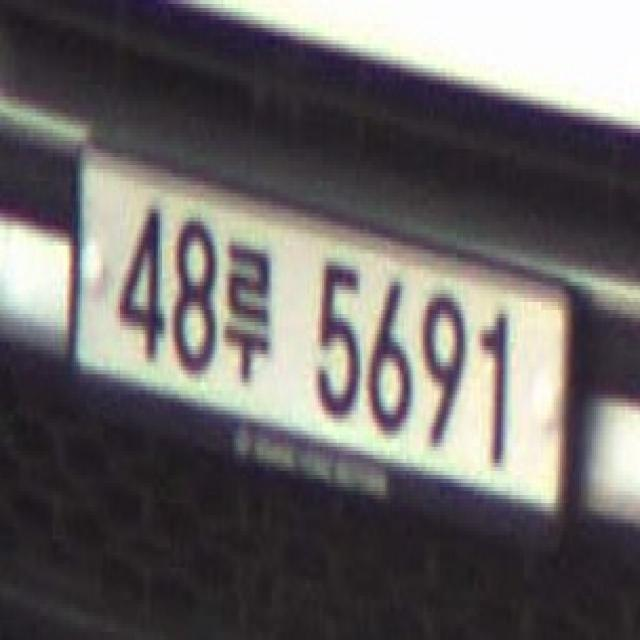1: (472, 310, 516, 474)
4: (112, 184, 166, 386)
5: (316, 256, 364, 427)
6: (367, 268, 412, 445)
8: (169, 205, 217, 395)
9: (419, 281, 468, 470)
license_plate: (62, 124, 600, 564)
lu: (223, 236, 275, 396)
